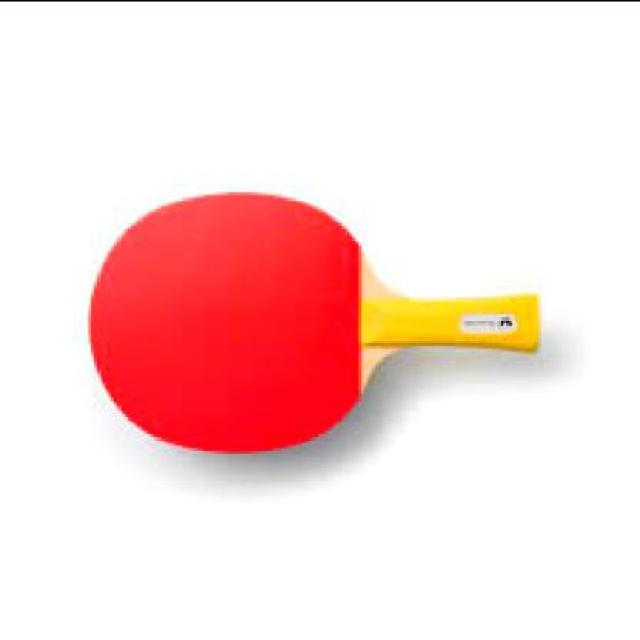table_tennis_racket: (89, 194, 542, 457)
